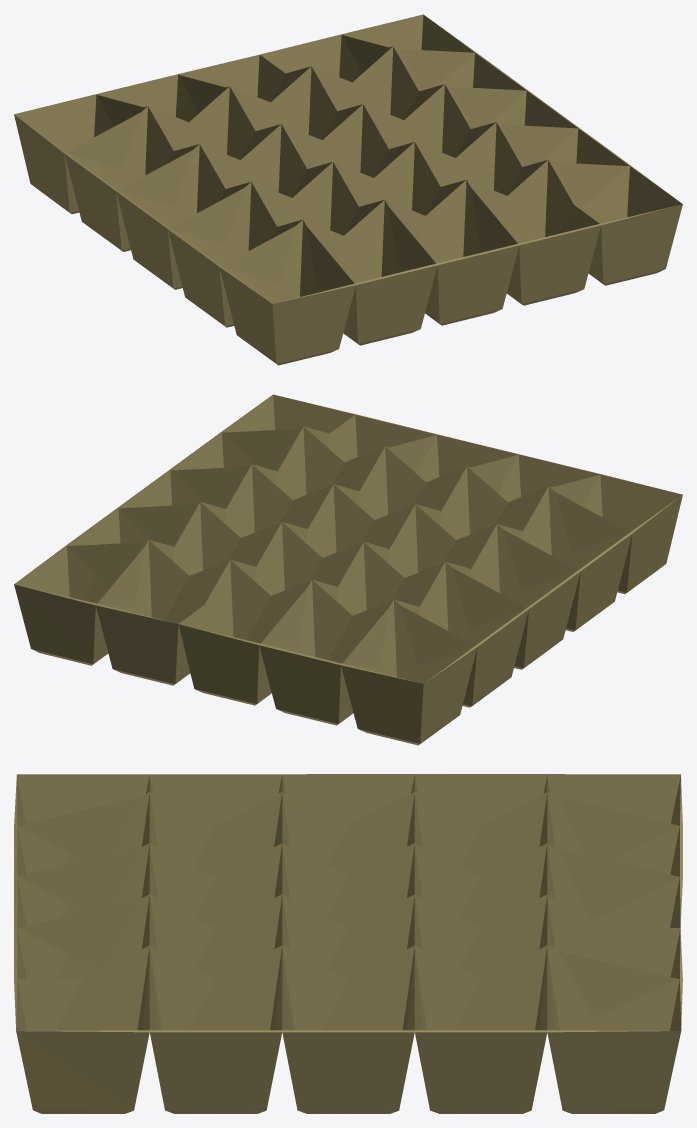
Rendered from Egg (empty).fbx.
3 renders of one model, top to bottom at view 1: azimuth 30°, elevation 25°; view 2: azimuth 150°, elevation 25°; view 3: azimuth 270°, elevation 25°, orthographic. The views are drawn at different scales.
Parts seen in each view (by area): view 1: Tray; view 2: Tray; view 3: Tray.
Part boxes in pixels (x1=…): Tray: x1=14, y1=14, x2=682, y2=365; Tray: x1=14, y1=394, x2=682, y2=745; Tray: x1=14, y1=774, x2=682, y2=1113.
Size of the model in its own units: 1.99 by 0.456 by 2.18.
